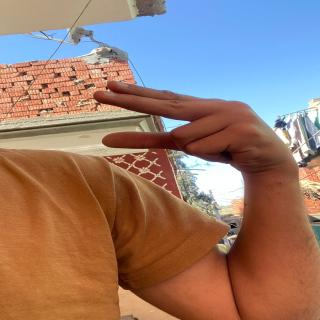DHELL: (75, 76, 311, 177)
